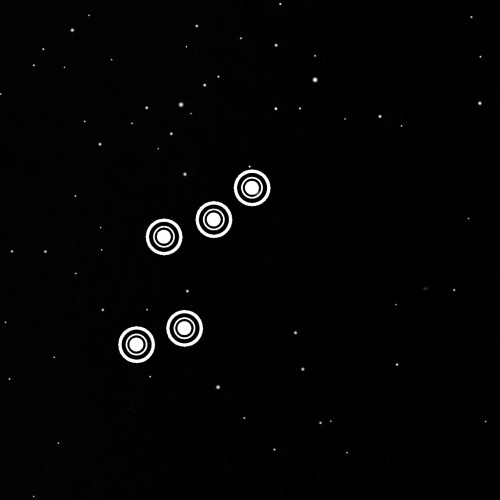lyra: (99, 155, 287, 382)
